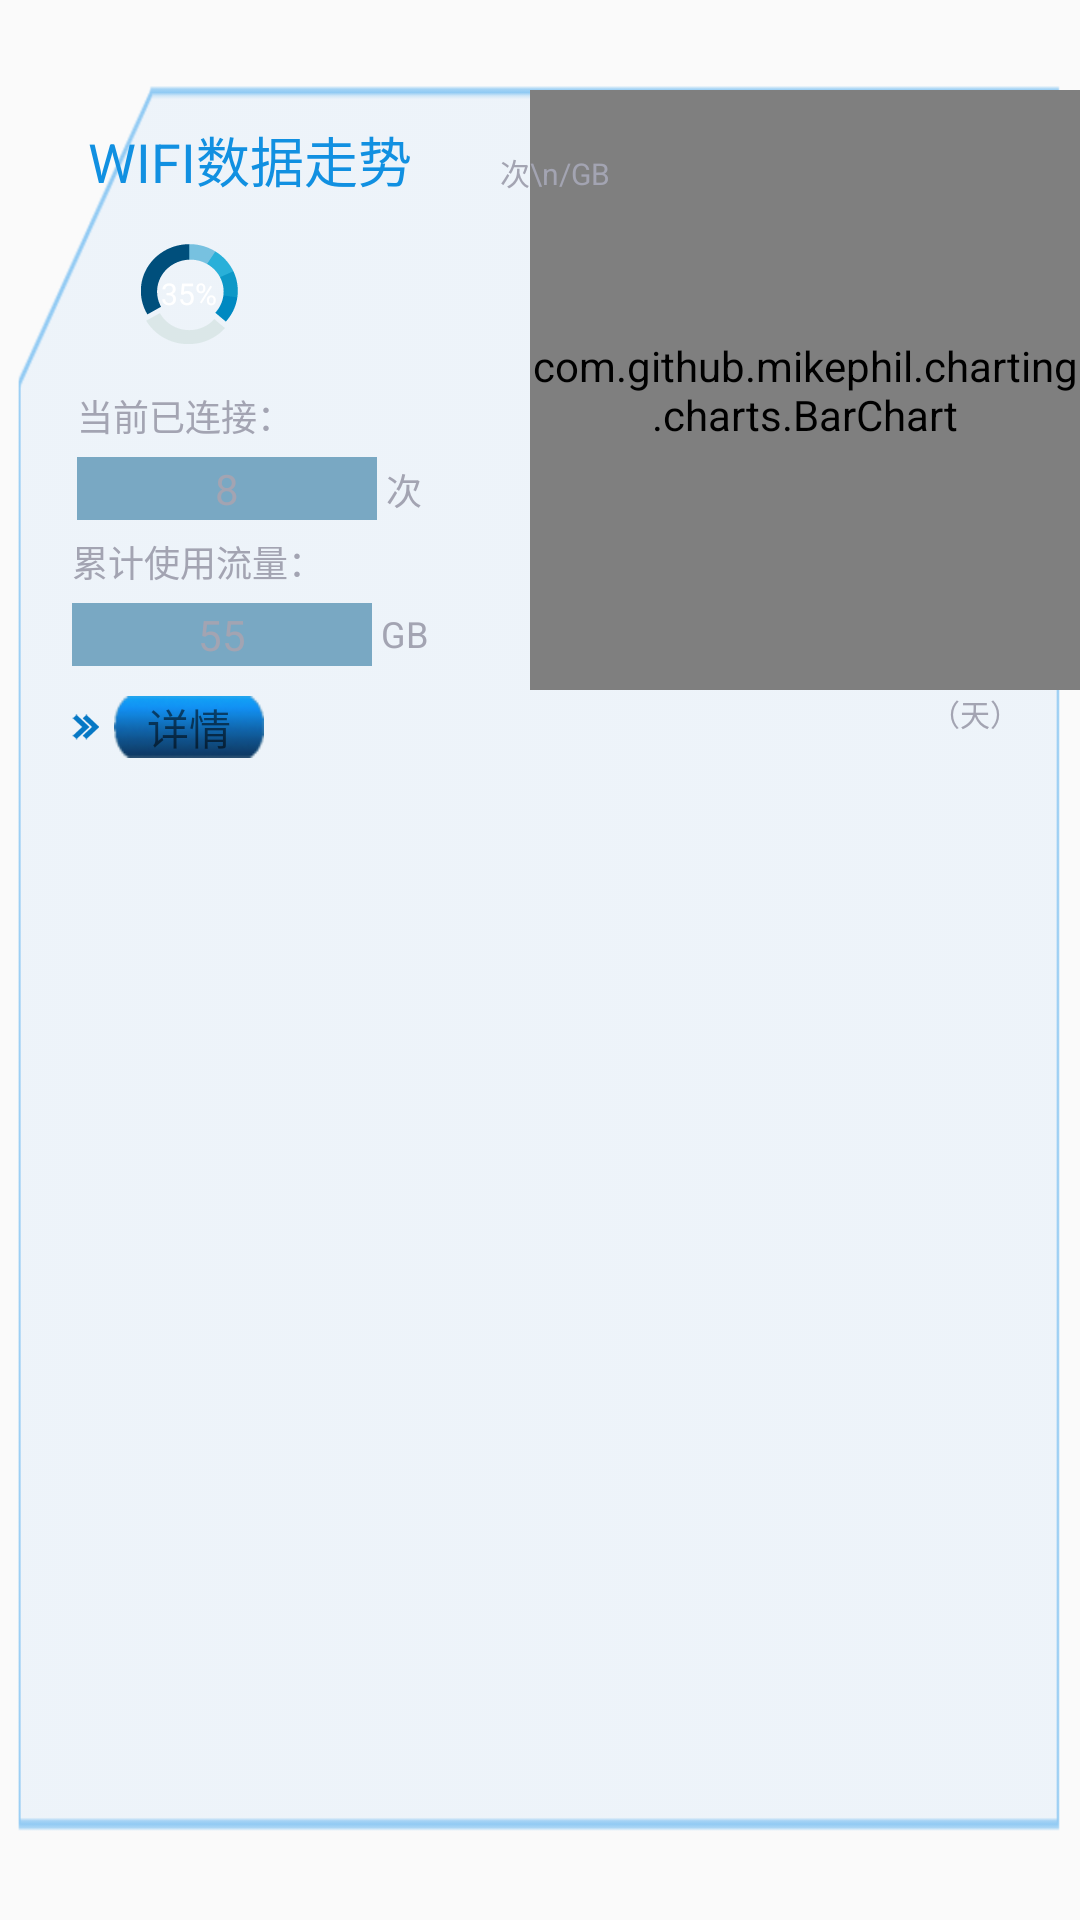

Screen size 1080px x 1920px. Icon name, then its center in pixels as [x,y]:
circle: [189,283]
